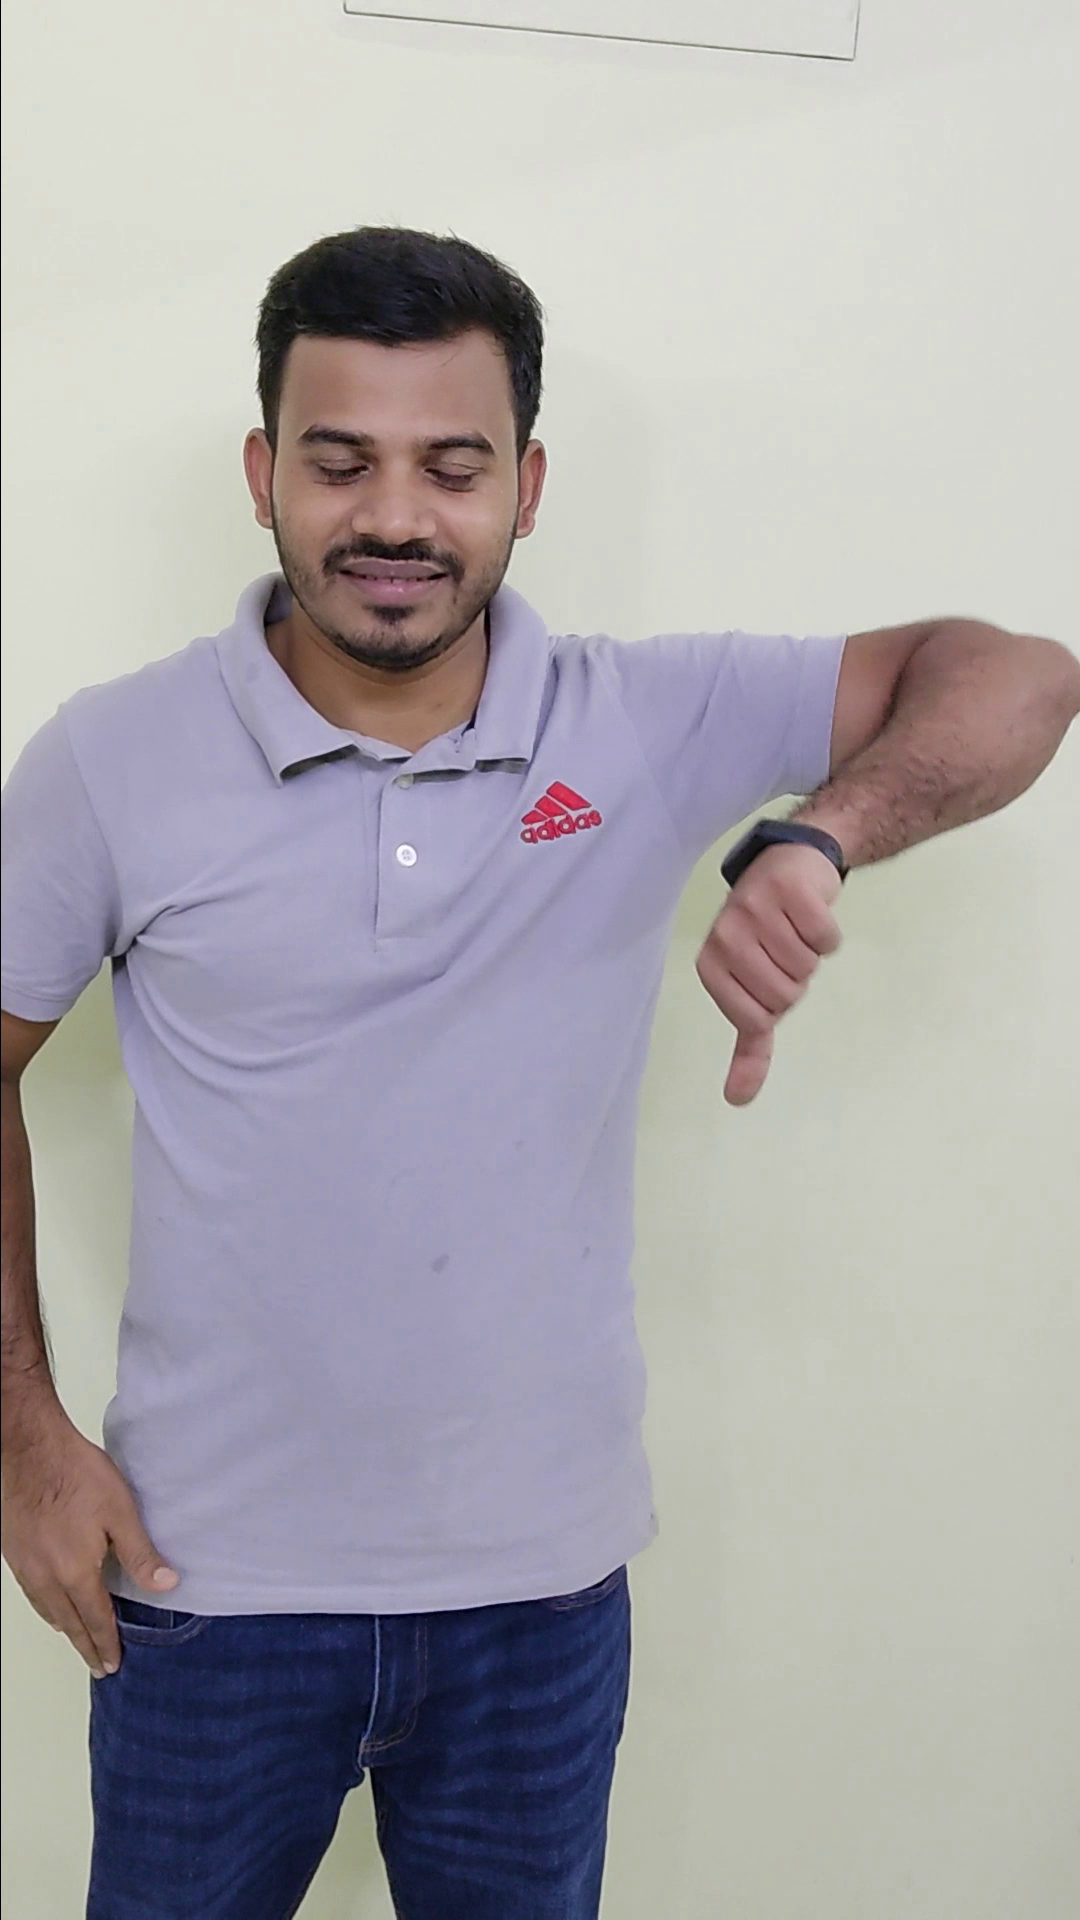Dislike: (644, 804, 895, 1131)
None: (3, 1390, 190, 1681)
